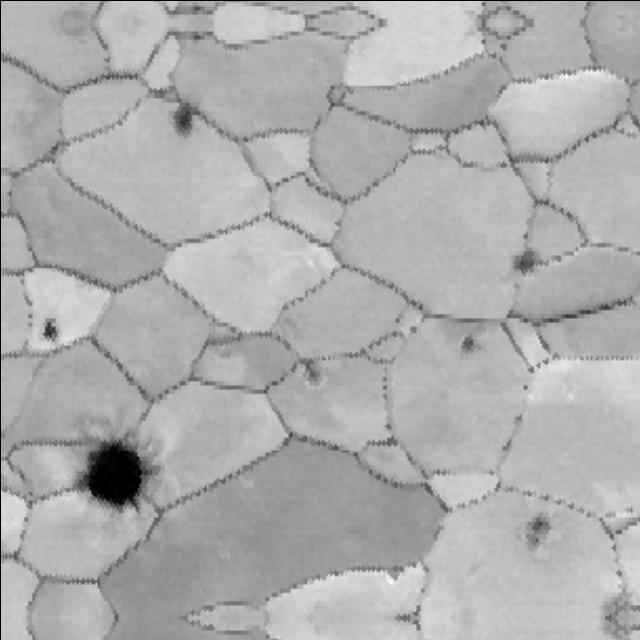good_void: (78, 432, 152, 521), (489, 243, 541, 285), (292, 348, 324, 397), (515, 510, 553, 549), (165, 101, 198, 145), (36, 314, 61, 345), (452, 332, 483, 355), (407, 322, 421, 337)
